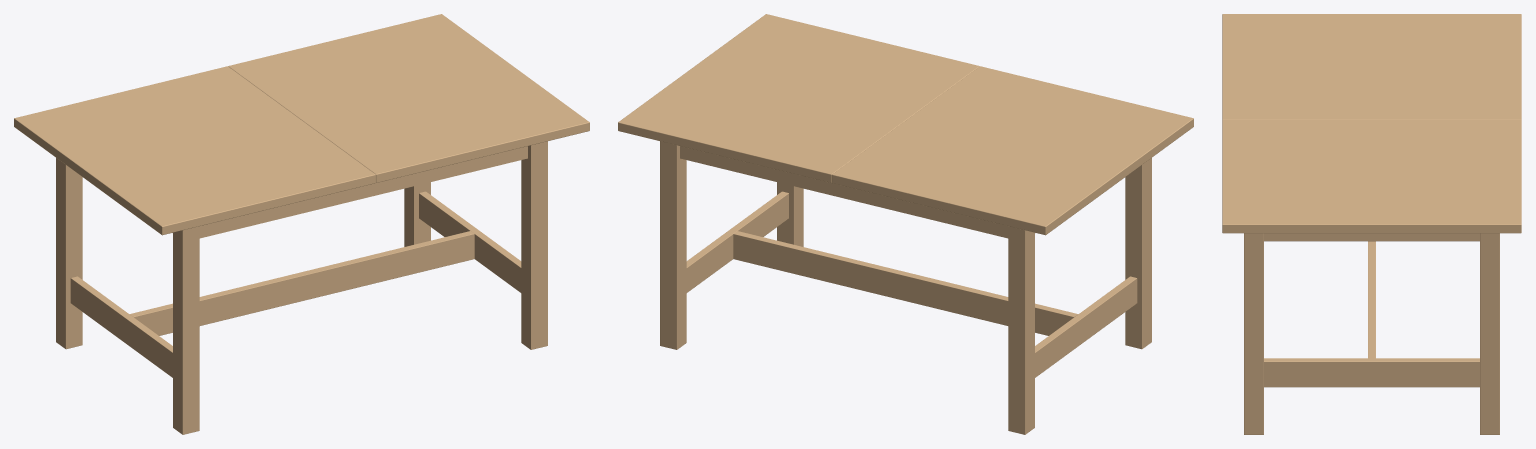
3 renders of one model, left to right at view 1: azimuth 30°, elevation 25°; view 2: azimuth 150°, elevation 25°; view 3: azimuth 270°, elevation 25°, orthographic.
Parts seen in each view (by area): view 1: Mesh12 Group_9_1 Table_Norden_IKEA1 Model, Mesh13 Group_9_2 Table_Norden_IKEA1 Model, Mesh2 Group_8_1 Table_Norden Table_Norden_IKEA1 Model, Mesh4 Group_2_1 Group_4_1 Table_Norden Table_Norden_IKEA1 Model, Mesh8 Group_2_3 Group_4_2 Table_Norden Table_Norden_IKEA1 Model, Mesh5 Group_2_2 Group_4_1 Table_Norden Table_Norden_IKEA1 Model, Mesh1 Group_6_1 Table_Norden Table_Norden_IKEA1 Model, Mesh6 Group_7_1 Group_4_1 Table_Norden Table_Norden_IKEA1 Model, Mesh10 Group_7_3 Group_4_2 Table_Norden Table_Norden_IKEA1 Model, Mesh9 Group_2_4 Group_4_2 Table_Norden Table_Norden_IKEA1 Model; view 2: Mesh12 Group_9_1 Table_Norden_IKEA1 Model, Mesh13 Group_9_2 Table_Norden_IKEA1 Model, Mesh2 Group_8_1 Table_Norden Table_Norden_IKEA1 Model, Mesh5 Group_2_2 Group_4_1 Table_Norden Table_Norden_IKEA1 Model, Mesh9 Group_2_4 Group_4_2 Table_Norden Table_Norden_IKEA1 Model, Mesh4 Group_2_1 Group_4_1 Table_Norden Table_Norden_IKEA1 Model, Mesh3 Group_6_2 Table_Norden Table_Norden_IKEA1 Model, Mesh6 Group_7_1 Group_4_1 Table_Norden Table_Norden_IKEA1 Model, Mesh10 Group_7_3 Group_4_2 Table_Norden Table_Norden_IKEA1 Model, Mesh8 Group_2_3 Group_4_2 Table_Norden Table_Norden_IKEA1 Model; view 3: Mesh13 Group_9_2 Table_Norden_IKEA1 Model, Mesh12 Group_9_1 Table_Norden_IKEA1 Model, Mesh10 Group_7_3 Group_4_2 Table_Norden Table_Norden_IKEA1 Model, Mesh8 Group_2_3 Group_4_2 Table_Norden Table_Norden_IKEA1 Model, Mesh9 Group_2_4 Group_4_2 Table_Norden Table_Norden_IKEA1 Model, Mesh11 Group_7_4 Group_4_2 Table_Norden Table_Norden_IKEA1 Model, Mesh2 Group_8_1 Table_Norden Table_Norden_IKEA1 Model.
Part boxes in pixels (box(x1,y1,x2,y2)): Mesh12 Group_9_1 Table_Norden_IKEA1 Model: box(14, 66, 375, 235); Mesh13 Group_9_2 Table_Norden_IKEA1 Model: box(228, 14, 589, 182); Mesh2 Group_8_1 Table_Norden Table_Norden_IKEA1 Model: box(129, 231, 474, 335); Mesh4 Group_2_1 Group_4_1 Table_Norden Table_Norden_IKEA1 Model: box(173, 226, 199, 434); Mesh8 Group_2_3 Group_4_2 Table_Norden Table_Norden_IKEA1 Model: box(521, 141, 547, 349); Mesh5 Group_2_2 Group_4_1 Table_Norden Table_Norden_IKEA1 Model: box(56, 158, 82, 349); Mesh1 Group_6_1 Table_Norden Table_Norden_IKEA1 Model: box(199, 146, 527, 238); Mesh6 Group_7_1 Group_4_1 Table_Norden Table_Norden_IKEA1 Model: box(70, 276, 172, 377); Mesh10 Group_7_3 Group_4_2 Table_Norden Table_Norden_IKEA1 Model: box(419, 191, 521, 292); Mesh9 Group_2_4 Group_4_2 Table_Norden Table_Norden_IKEA1 Model: box(404, 182, 430, 246); Mesh12 Group_9_1 Table_Norden_IKEA1 Model: box(832, 66, 1193, 235); Mesh13 Group_9_2 Table_Norden_IKEA1 Model: box(618, 14, 979, 182); Mesh2 Group_8_1 Table_Norden Table_Norden_IKEA1 Model: box(733, 231, 1078, 335); Mesh5 Group_2_2 Group_4_1 Table_Norden Table_Norden_IKEA1 Model: box(1008, 226, 1034, 434); Mesh9 Group_2_4 Group_4_2 Table_Norden Table_Norden_IKEA1 Model: box(660, 141, 686, 349); Mesh4 Group_2_1 Group_4_1 Table_Norden Table_Norden_IKEA1 Model: box(1125, 158, 1151, 349); Mesh3 Group_6_2 Table_Norden Table_Norden_IKEA1 Model: box(680, 146, 1008, 238); Mesh6 Group_7_1 Group_4_1 Table_Norden Table_Norden_IKEA1 Model: box(1035, 276, 1137, 377); Mesh10 Group_7_3 Group_4_2 Table_Norden Table_Norden_IKEA1 Model: box(686, 191, 788, 292); Mesh8 Group_2_3 Group_4_2 Table_Norden Table_Norden_IKEA1 Model: box(777, 182, 803, 246); Mesh13 Group_9_2 Table_Norden_IKEA1 Model: box(1222, 119, 1521, 233); Mesh12 Group_9_1 Table_Norden_IKEA1 Model: box(1222, 14, 1521, 119); Mesh10 Group_7_3 Group_4_2 Table_Norden Table_Norden_IKEA1 Model: box(1264, 358, 1479, 387); Mesh8 Group_2_3 Group_4_2 Table_Norden Table_Norden_IKEA1 Model: box(1244, 233, 1263, 434); Mesh9 Group_2_4 Group_4_2 Table_Norden Table_Norden_IKEA1 Model: box(1480, 233, 1499, 434); Mesh11 Group_7_4 Group_4_2 Table_Norden Table_Norden_IKEA1 Model: box(1264, 233, 1479, 241); Mesh2 Group_8_1 Table_Norden Table_Norden_IKEA1 Model: box(1368, 241, 1375, 358).
Bounding box in the file's own units: 0.7892 × 0.3946 × 0.4735.
